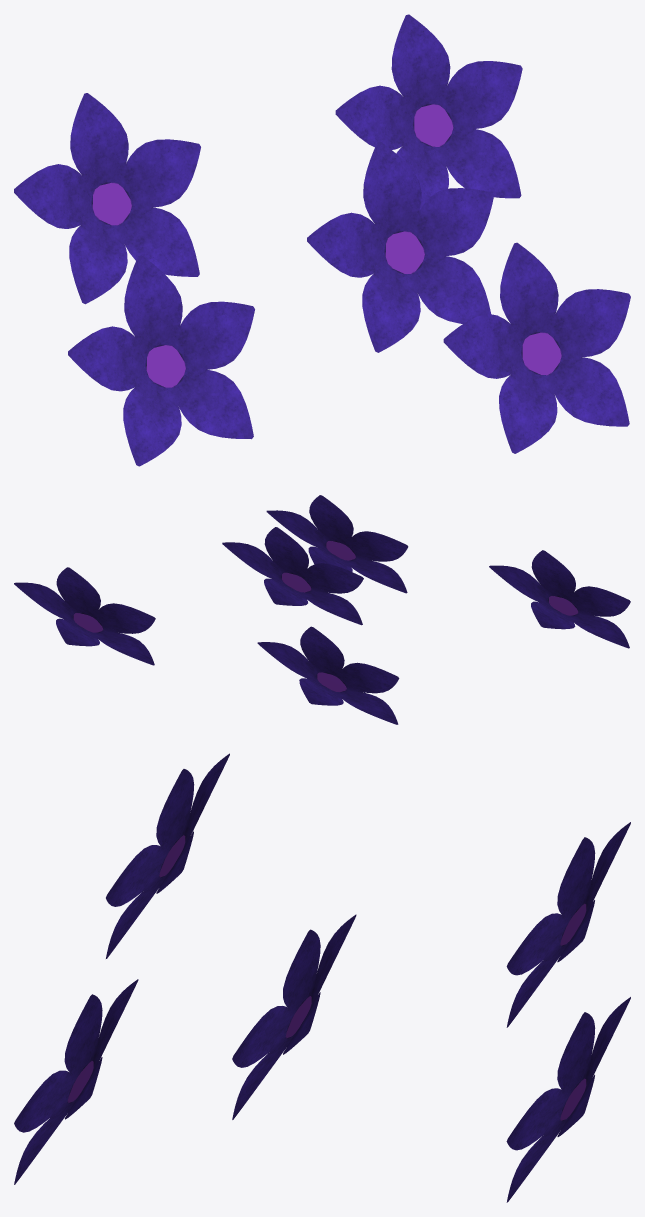
Rendered from chill_flower.fbx.
3 views of the same model, one above another, from view 1: azimuth 30°, elevation 25°; view 2: azimuth 150°, elevation 25°; view 3: azimuth 270°, elevation 25° (orthographic). The views are drawn at different scales.
Visible parts, largest first — view 1: Circle.003; view 2: Circle.003; view 3: Circle.003.
Part boxes in pixels (<box>): Circle.003: <box>14,14,630,466</box>; Circle.003: <box>14,495,630,724</box>; Circle.003: <box>14,753,630,1202</box>.
Size of the model in its own units: 113 by 33.21 by 85.16.
Materials: 1 (1 with a texture image).
